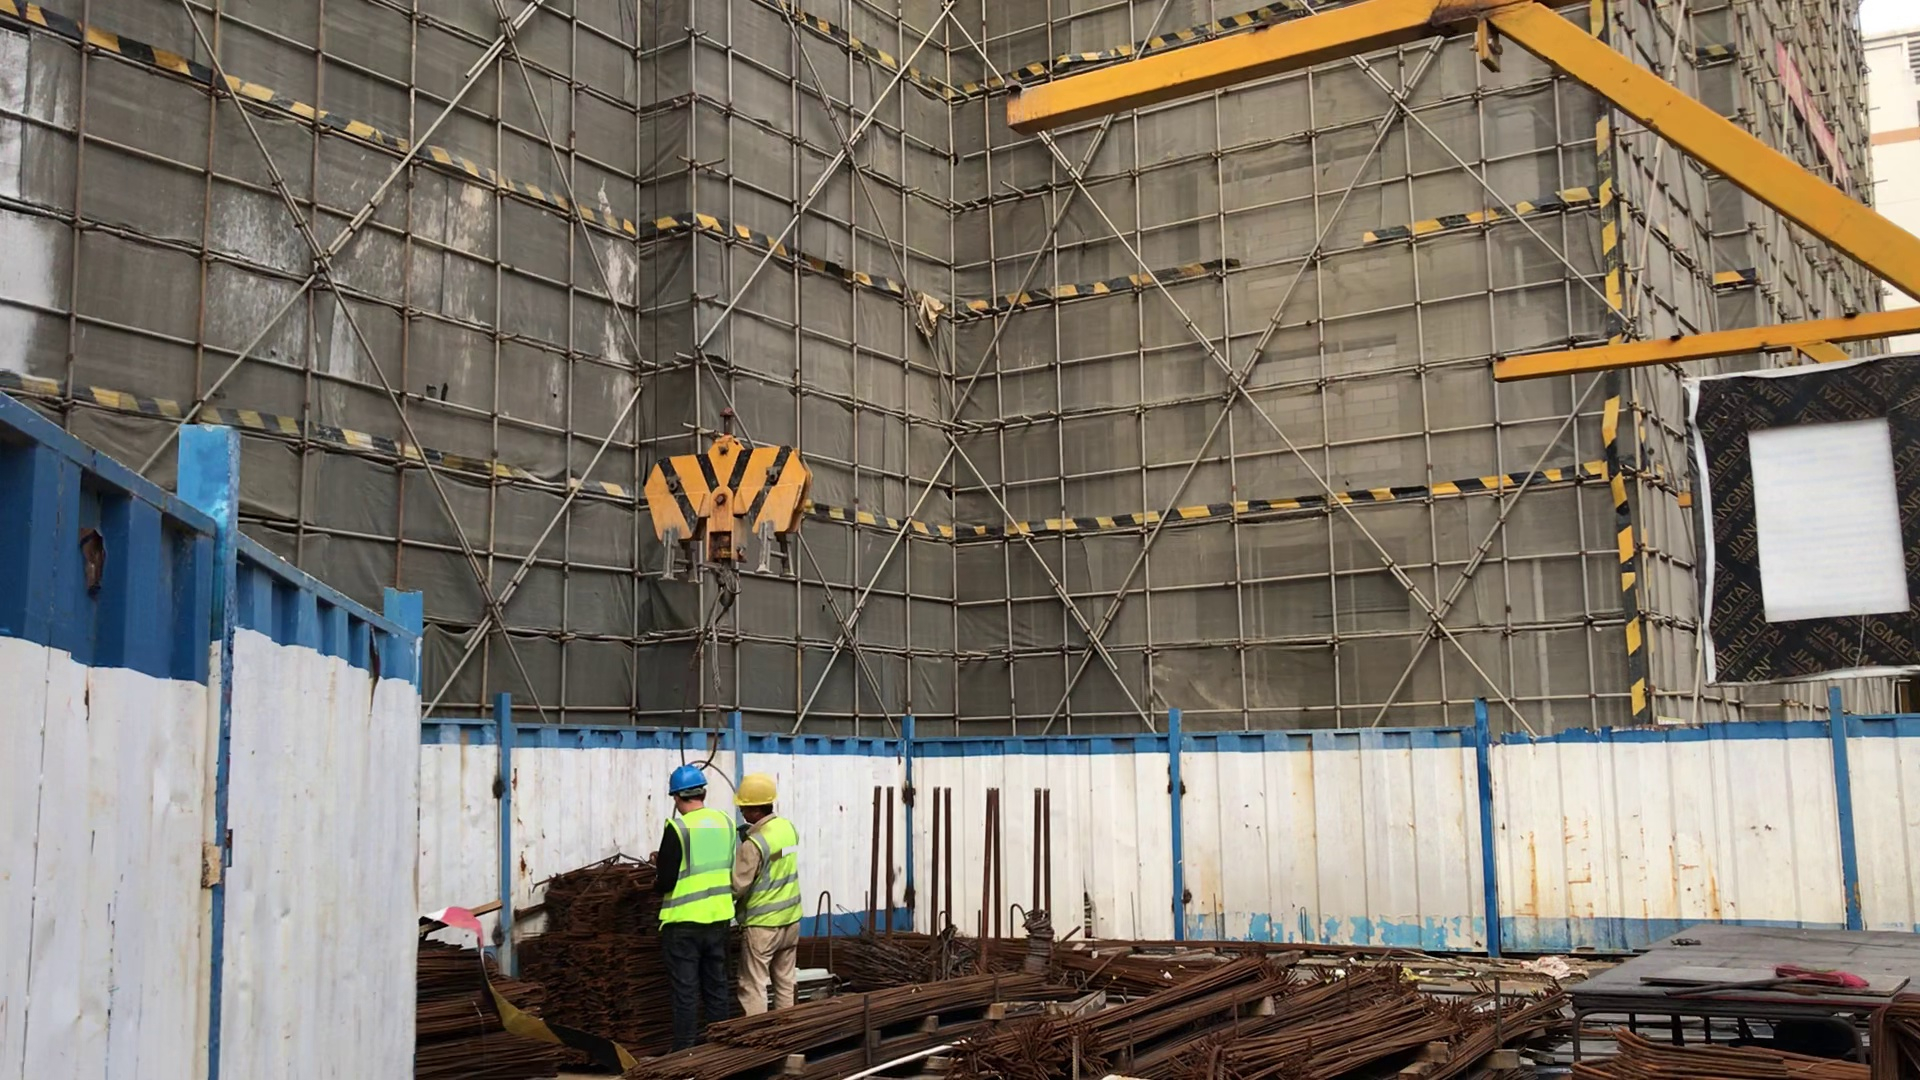helmet: (737, 775, 784, 811), (671, 761, 704, 796)
hook: (639, 441, 847, 586)
person: (650, 757, 739, 1039), (728, 772, 813, 1027)
rebar: (837, 963, 1513, 1080), (411, 936, 517, 1080)
vest: (665, 806, 736, 931), (747, 815, 803, 935)
